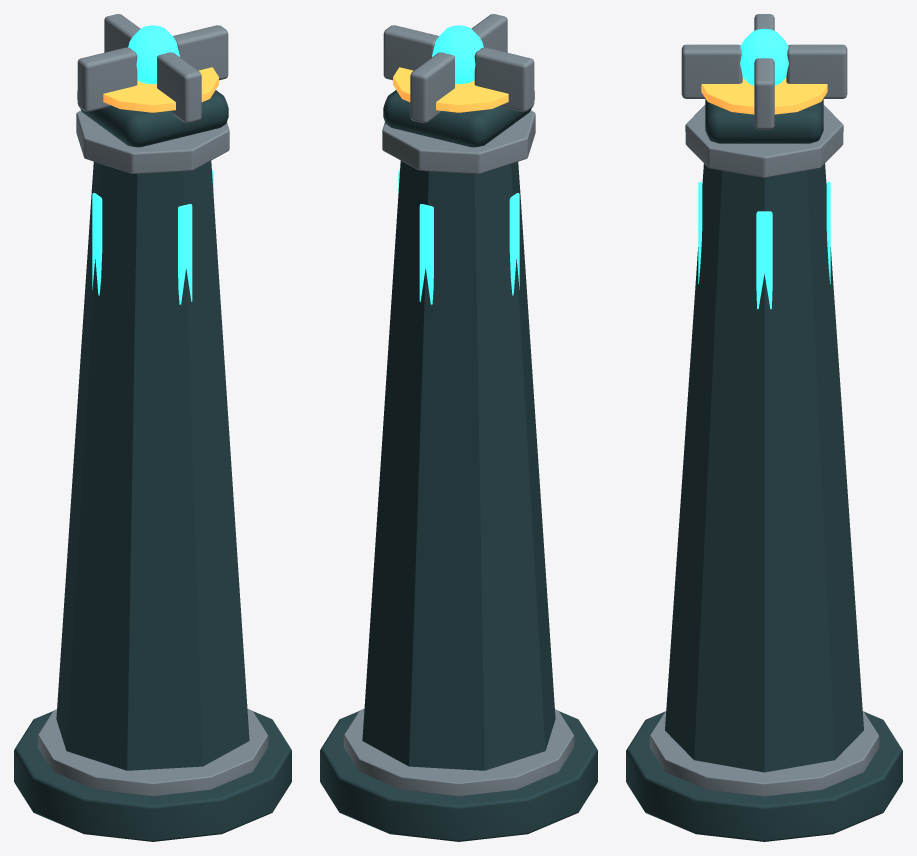
The model's file is SM_Ridgefire_Obelisk.fbx.
The picture shows the model from 3 angles, left to right: view 1: azimuth 30°, elevation 25°; view 2: azimuth 150°, elevation 25°; view 3: azimuth 270°, elevation 25°; orthographic projection.
Visible parts, largest first — view 1: SM_Ridgefire_Obelisk; view 2: SM_Ridgefire_Obelisk; view 3: SM_Ridgefire_Obelisk.
Boxes of the visible parts, <box> form: SM_Ridgefire_Obelisk: <box>14,14,291,841</box>; SM_Ridgefire_Obelisk: <box>320,14,597,841</box>; SM_Ridgefire_Obelisk: <box>626,14,902,841</box>.
Bounding box in the file's own units: 164 × 493 × 164.
